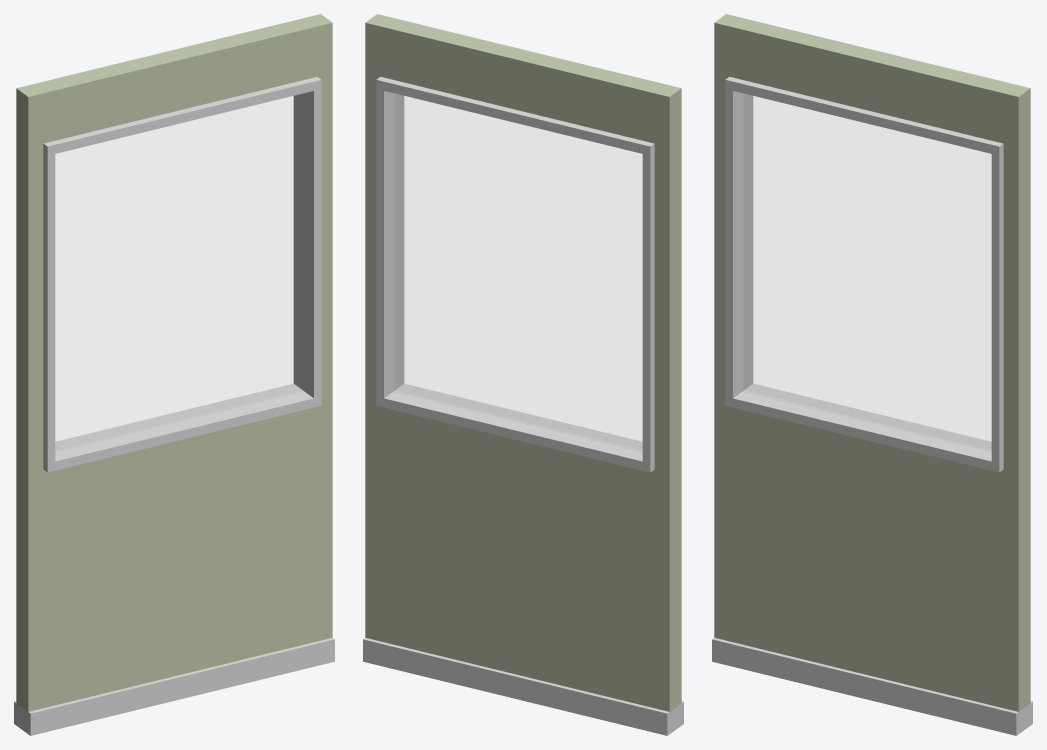
Rendered from MODwindowWall.fbx.
3 views of the same model, side by side, from view 1: azimuth 30°, elevation 25°; view 2: azimuth 150°, elevation 25°; view 3: azimuth 330°, elevation 25° (orthographic).
Visible parts, largest first — view 1: Cube; view 2: Cube; view 3: Cube.
Part boxes in pixels (left/top/right/bottom): Cube: left=14, top=14, right=334, bottom=735; Cube: left=363, top=14, right=683, bottom=735; Cube: left=712, top=14, right=1032, bottom=735.
Size of the model in its own units: 200 by 400 by 23.08.
